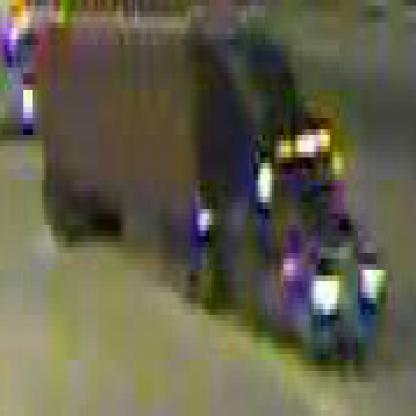container: (31, 24, 385, 367)
